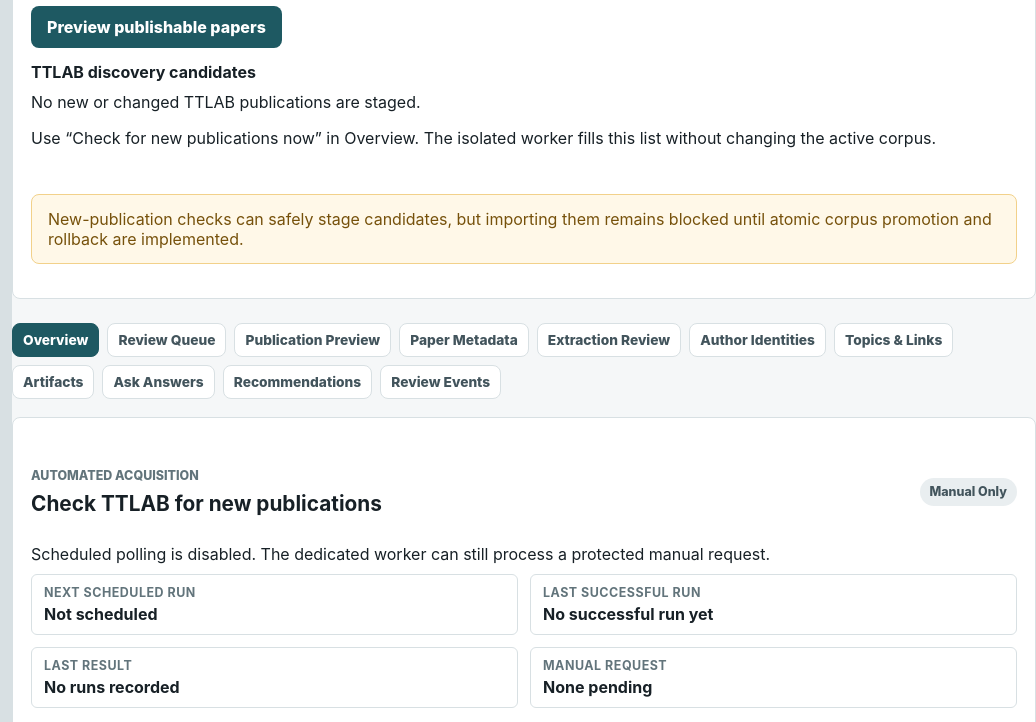
Test: admin governance and completeness › shows only server-permitted transitions and exposes full extraction diagnostics
The image size is (1036, 722).
(page scrolled)
Click the tab "Extraction Review" at (609, 340), box [537,323,681,357]
(page scrolled)
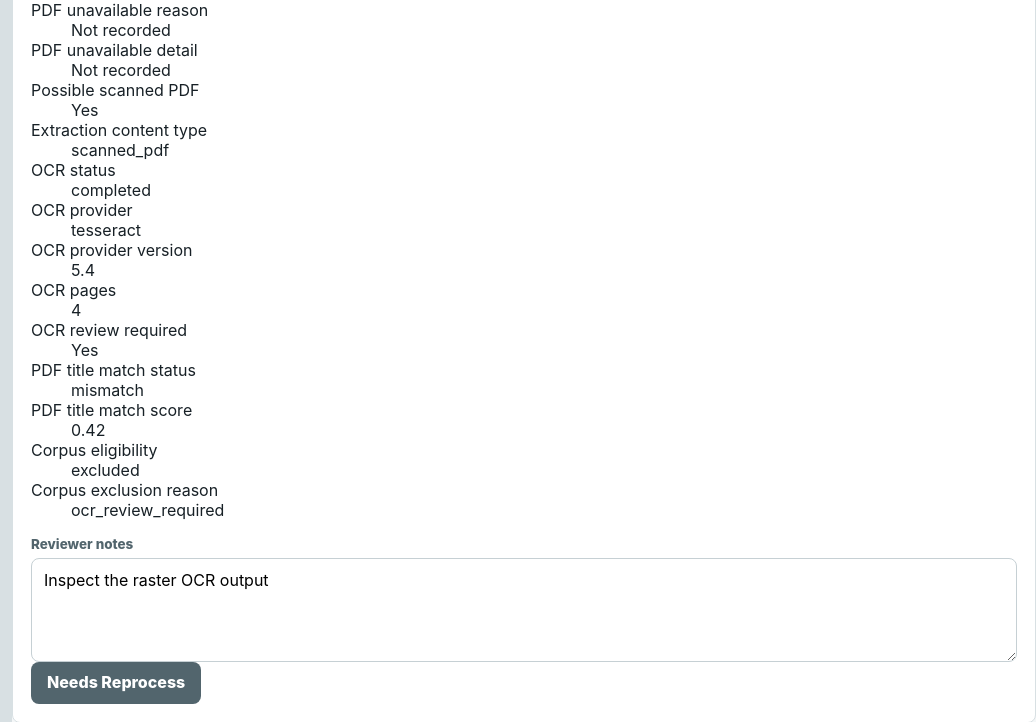
Result: the text "tesseract" is shown at [71,220,141,240]
Result: the text "5.4" is shown at [71,260,95,280]
Result: the text "ocr_review_required" is shown at [71,500,224,520]
